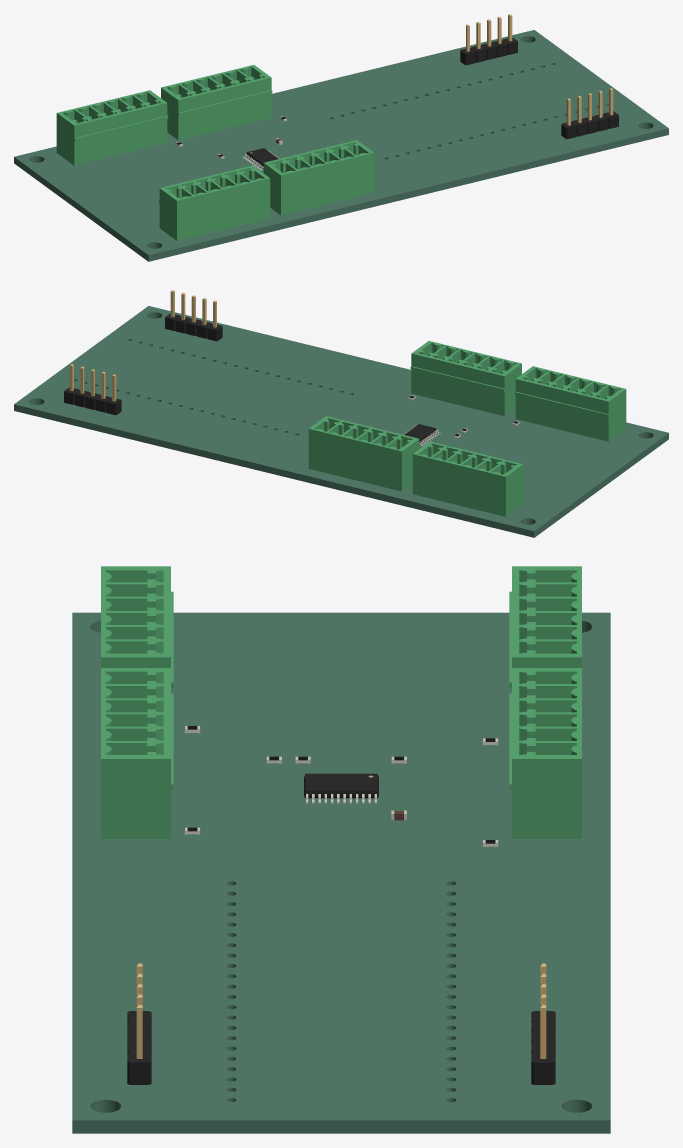
The model's file is carrier_devkit_cap1203.glb.
3 renders of one model, top to bottom at view 1: azimuth 30°, elevation 25°; view 2: azimuth 150°, elevation 25°; view 3: azimuth 270°, elevation 25°, orthographic. The views are drawn at different scales.
Parts seen in each view (by area): view 1: =>[0:1:1:12], =>[0:1:1:7] (×4), =>[0:1:1:11] (×2), =>[0:1:1:5]; view 2: =>[0:1:1:12], =>[0:1:1:7] (×4), =>[0:1:1:11] (×2), =>[0:1:1:5]; view 3: =>[0:1:1:12], =>[0:1:1:7] (×4), =>[0:1:1:11] (×2), =>[0:1:1:5].
Part boxes in pixels (box(x1,y1,x2,y2)): =>[0:1:1:12]: box(14, 30, 668, 261); =>[0:1:1:7] (×4): box(56, 65, 374, 240); =>[0:1:1:11] (×2): box(460, 14, 618, 139); =>[0:1:1:5]: box(242, 148, 279, 170); =>[0:1:1:12]: box(14, 306, 668, 537); =>[0:1:1:7] (×4): box(308, 341, 626, 516); =>[0:1:1:11] (×2): box(64, 290, 222, 415); =>[0:1:1:5]: box(403, 424, 440, 446); =>[0:1:1:12]: box(72, 612, 610, 1133); =>[0:1:1:7] (×4): box(101, 566, 581, 838); =>[0:1:1:11] (×2): box(127, 963, 555, 1084); =>[0:1:1:5]: box(304, 773, 378, 803).
Bounding box in the file's own units: 0.125 × 0.0126 × 0.056.
